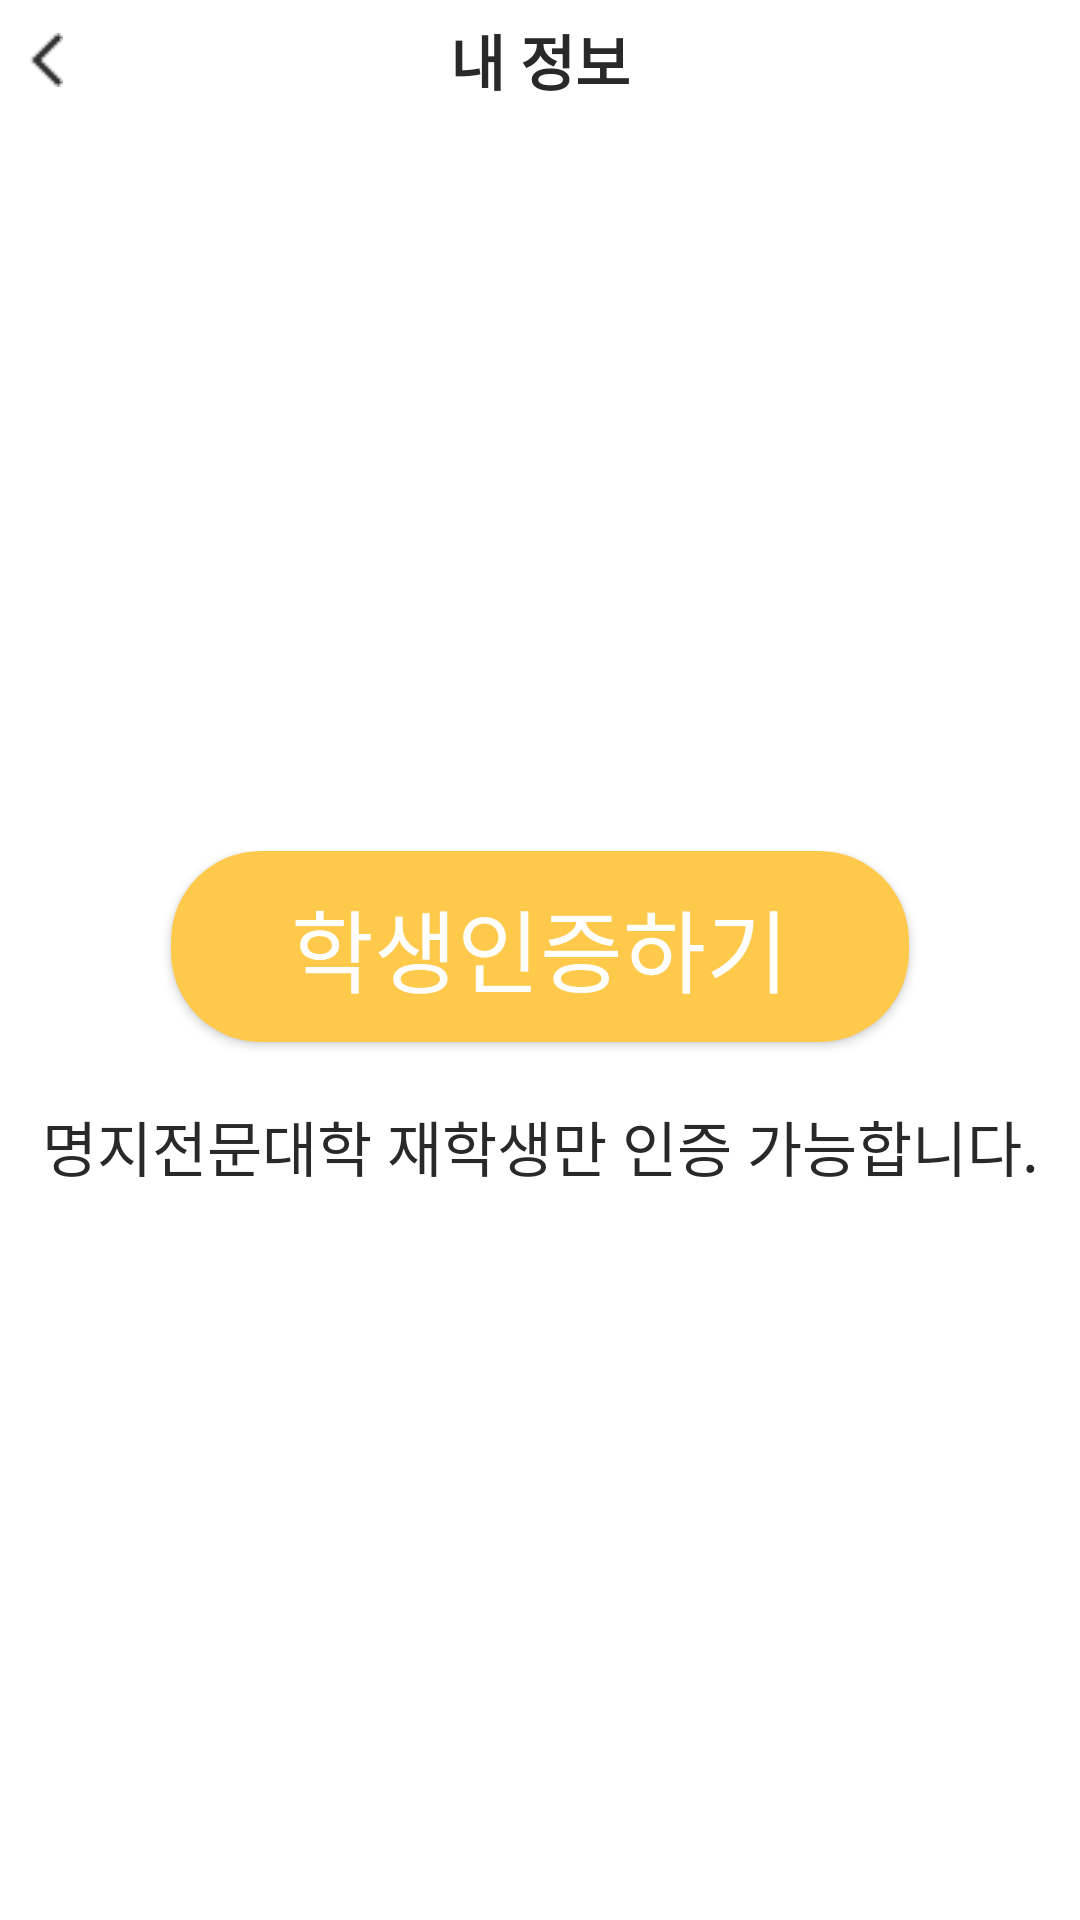

Icons on this 1080 × 1920 Android screen, each with the point to tap as point (x, y):
return cmong: point (46, 60)
